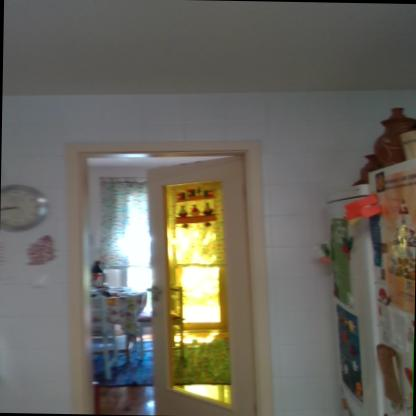semi: (54, 127, 274, 416)
